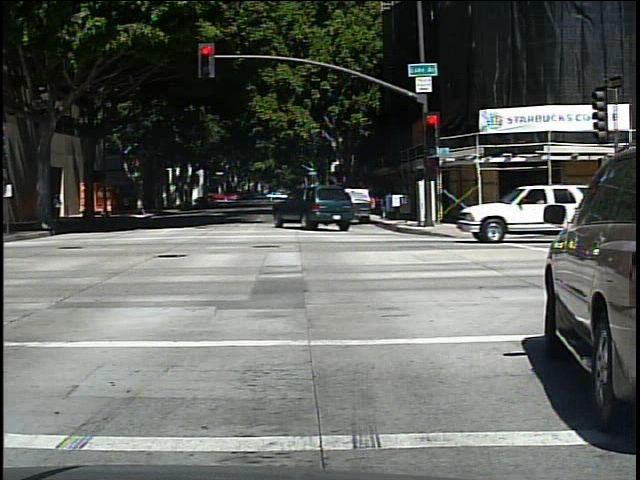person: (54, 190, 65, 223)
